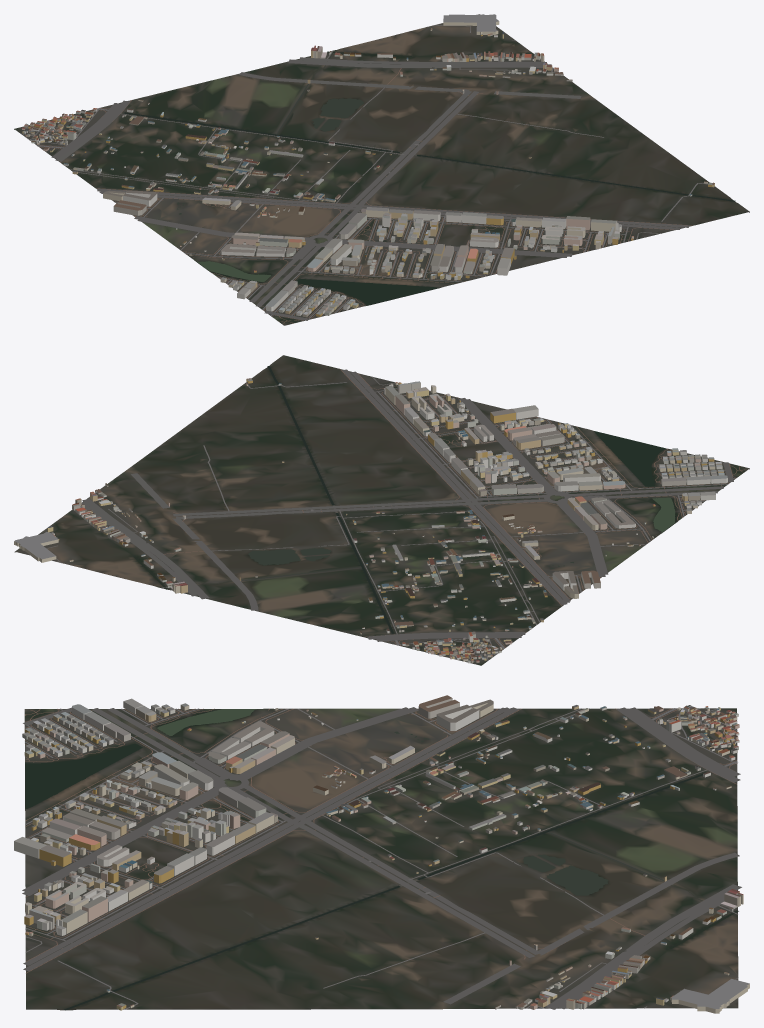
The picture shows the model from 3 angles, top to bottom: view 1: azimuth 30°, elevation 25°; view 2: azimuth 150°, elevation 25°; view 3: azimuth 270°, elevation 25°; orthographic projection. The views are drawn at different scales.
Parts seen in each view (by area): view 1: ground, buildings, roads, water; view 2: ground, buildings, roads, water; view 3: ground, buildings, roads, water.
Part boxes in pixels (box(x1,y1,x2,y2)): ground: box(14, 14, 749, 325); buildings: box(22, 14, 714, 317); roads: box(21, 24, 707, 323); water: box(124, 50, 735, 305); ground: box(14, 355, 749, 665); buildings: box(14, 378, 727, 663); roads: box(47, 369, 745, 661); water: box(133, 366, 675, 633); ground: box(24, 708, 738, 1010); buildings: box(14, 695, 749, 1013); roads: box(22, 707, 741, 1009); water: box(25, 709, 738, 1010).
Size of the model in its own units: 1455 by 33.59 by 1448.
